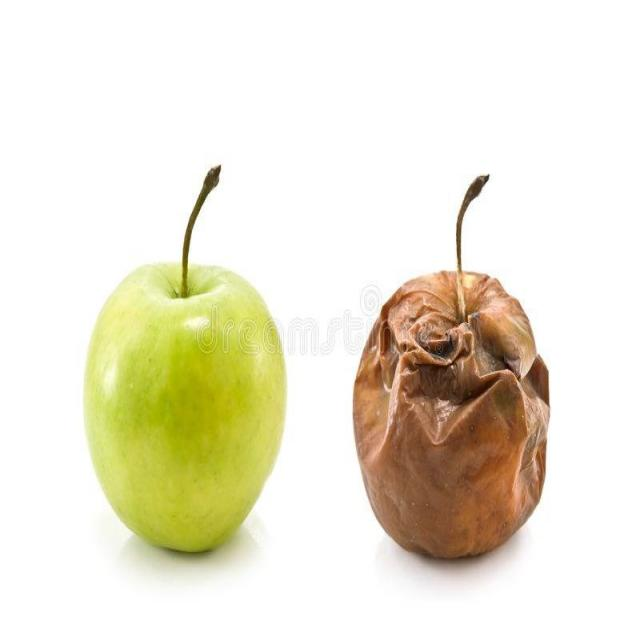fresh_apple: (81, 266, 289, 558)
rotten_apple: (352, 258, 550, 558)
